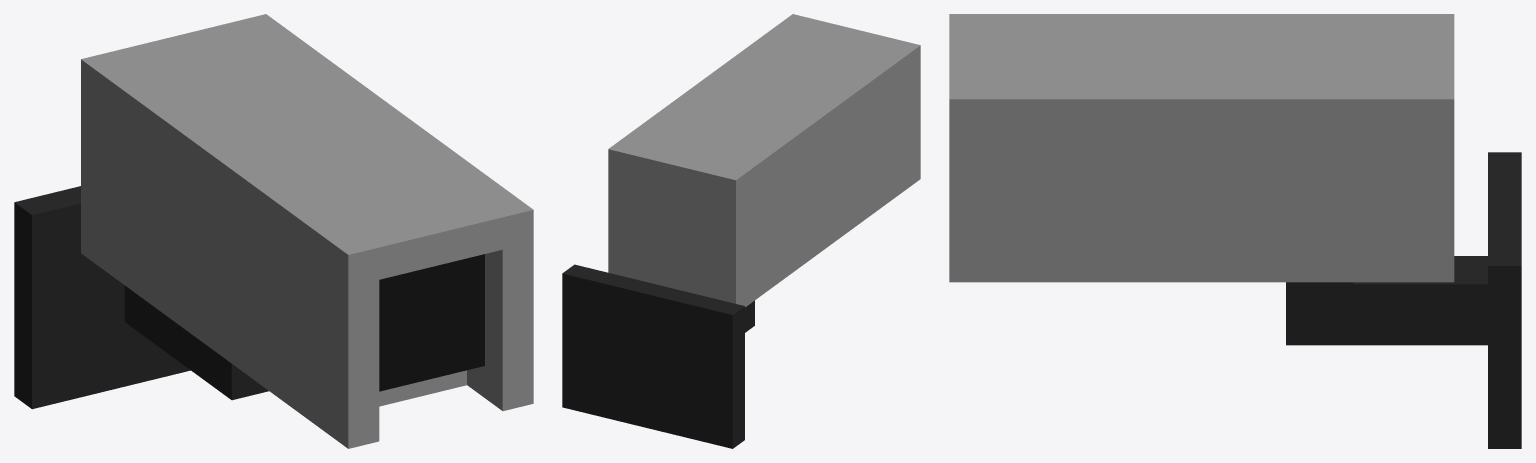
Rendered from VideoCamera01.fbx.
The picture shows the model from 3 angles, left to right: view 1: azimuth 30°, elevation 25°; view 2: azimuth 150°, elevation 25°; view 3: azimuth 270°, elevation 25°; orthographic projection. The views are drawn at different scales.
Parts seen in each view (by area): view 1: object 2, Matrix; view 2: object 2, Matrix; view 3: object 2, Matrix.
Boxes of the visible parts, left/top/right/bottom form: object 2: left=81, top=14, right=533, bottom=448; Matrix: left=14, top=186, right=268, bottom=409; object 2: left=608, top=14, right=920, bottom=307; Matrix: left=562, top=264, right=754, bottom=448; object 2: left=949, top=14, right=1454, bottom=282; Matrix: left=1286, top=152, right=1521, bottom=448.
Bounding box in the file's own units: 8 × 11 × 17.
